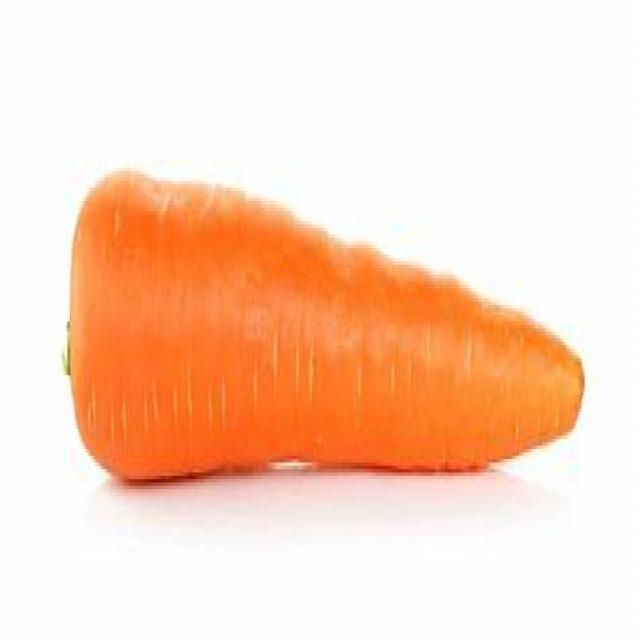Carrot: (53, 158, 586, 511)
